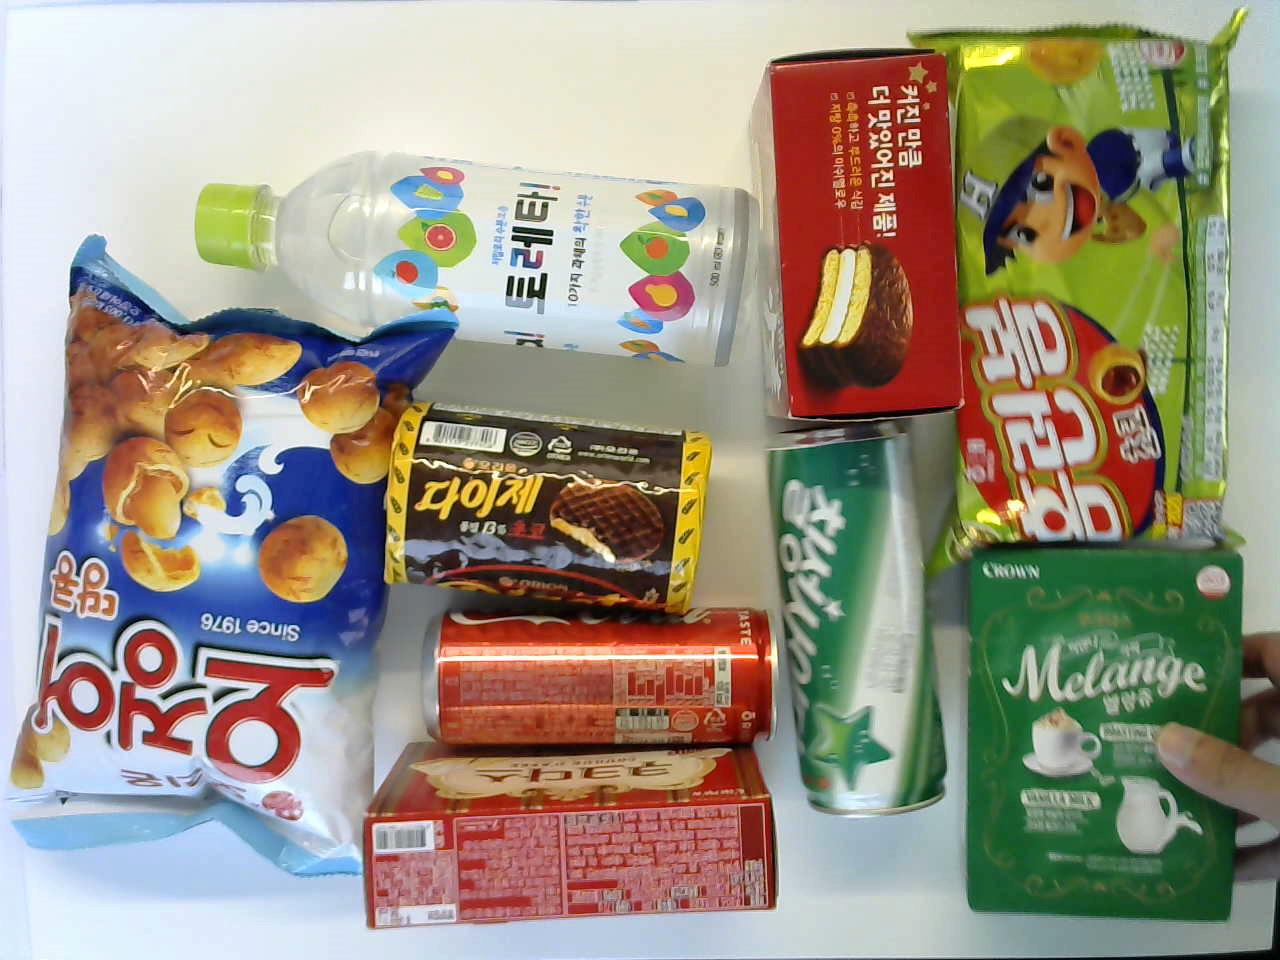chocopie: (729, 45, 966, 424)
cidar: (768, 427, 950, 830)
coke: (422, 600, 780, 744)
couque_coffee: (952, 552, 1242, 926)
couque_white: (362, 747, 777, 929)
diget_choco: (381, 401, 711, 605)
homerunball: (927, 3, 1251, 576)
squid_peanut: (1, 232, 456, 893)
toreta: (175, 148, 745, 374)
